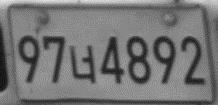2: (180, 34, 206, 85)
4: (99, 35, 124, 84)
7: (42, 34, 65, 84)
8: (125, 35, 151, 84)
9: (152, 34, 176, 83), (17, 34, 39, 83)
너: (68, 43, 95, 83)
